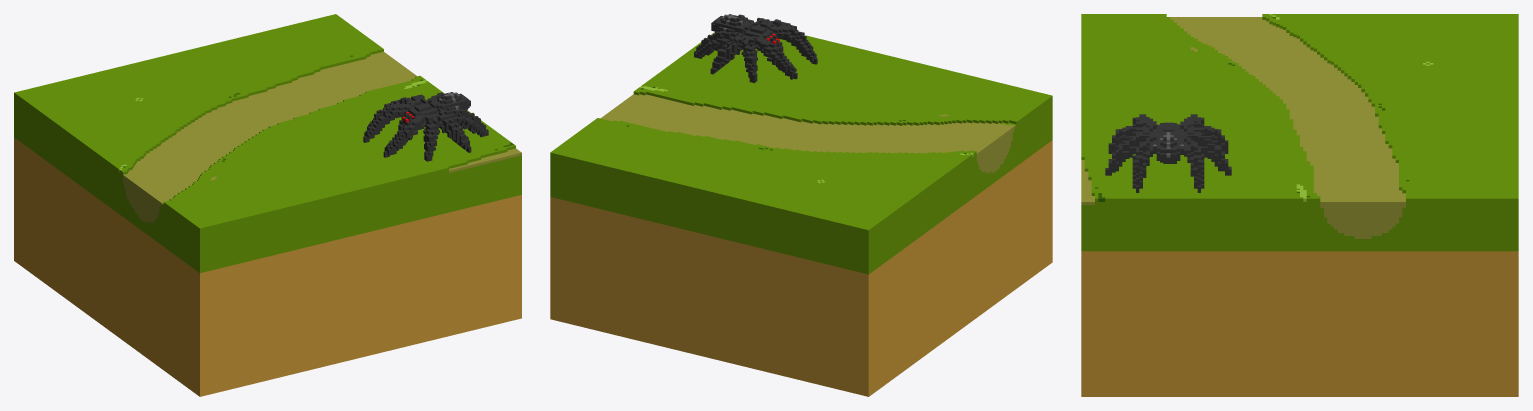
The picture shows the model from 3 angles, left to right: view 1: azimuth 30°, elevation 25°; view 2: azimuth 150°, elevation 25°; view 3: azimuth 270°, elevation 25°; orthographic projection. The views are drawn at different scales.
Parts seen in each view (by area): view 1: 7E.002; view 2: 7E.002; view 3: 7E.002.
Boxes of the visible parts, <box> form: 7E.002: <box>14,14,521,396</box>; 7E.002: <box>550,14,1052,396</box>; 7E.002: <box>1081,14,1518,396</box>.
Bounding box in the file's own units: 12.8 × 7.8 × 12.8.
Materials: 1 (1 with a texture image).
